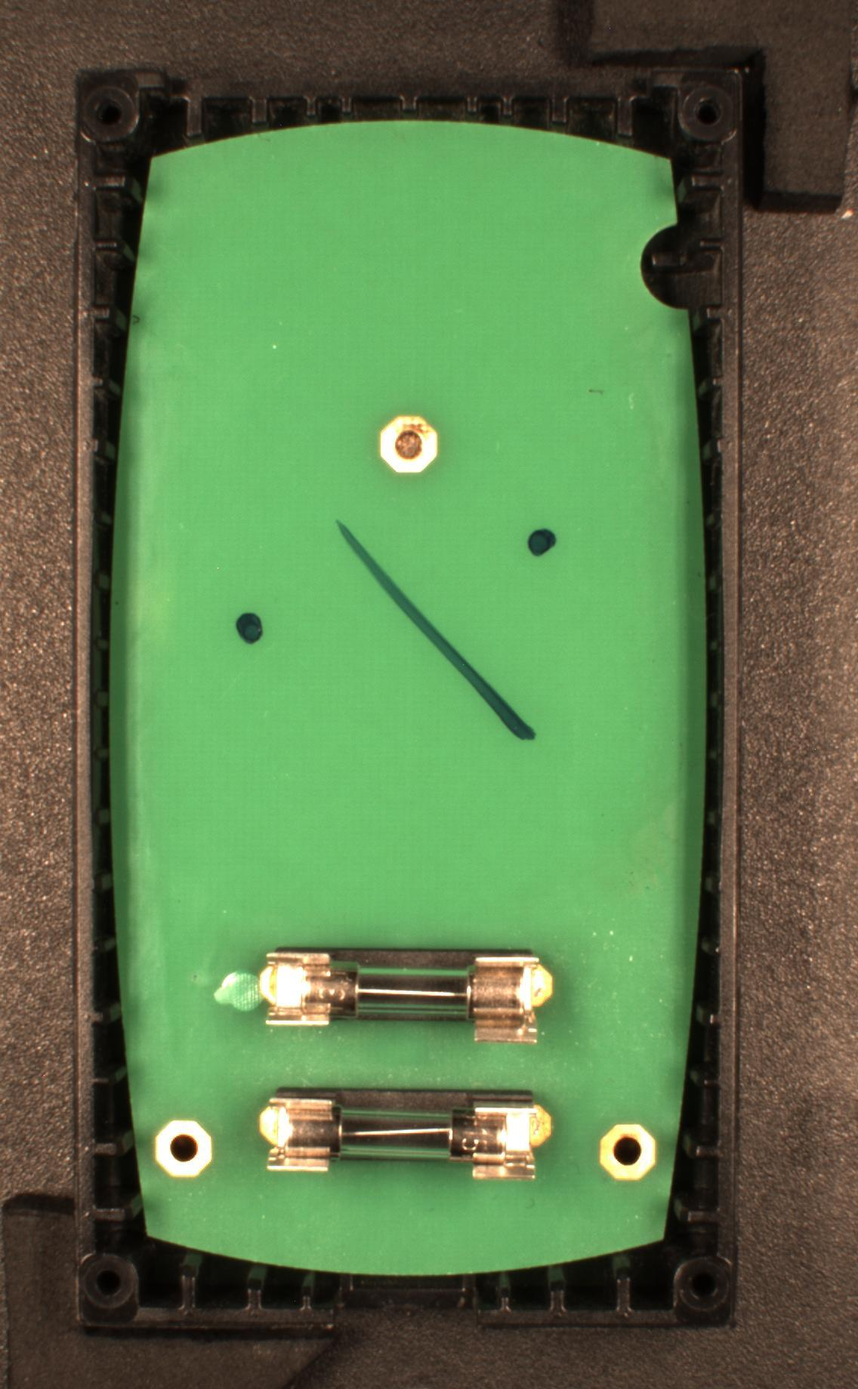Linijsko Ostecene: (334, 516, 536, 742)
Tockasto Ostecenje: (234, 610, 266, 647), (526, 527, 558, 557)
